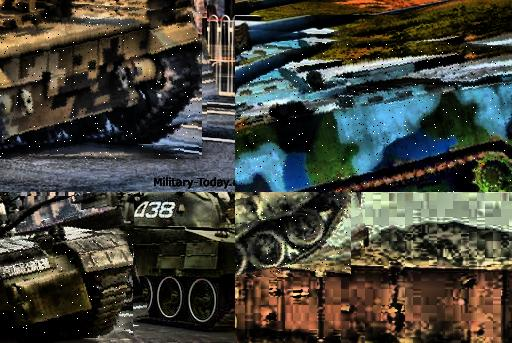tanks: (236, 43, 512, 193), (1, 3, 202, 148), (84, 193, 236, 331), (1, 232, 134, 338), (236, 193, 351, 276)
